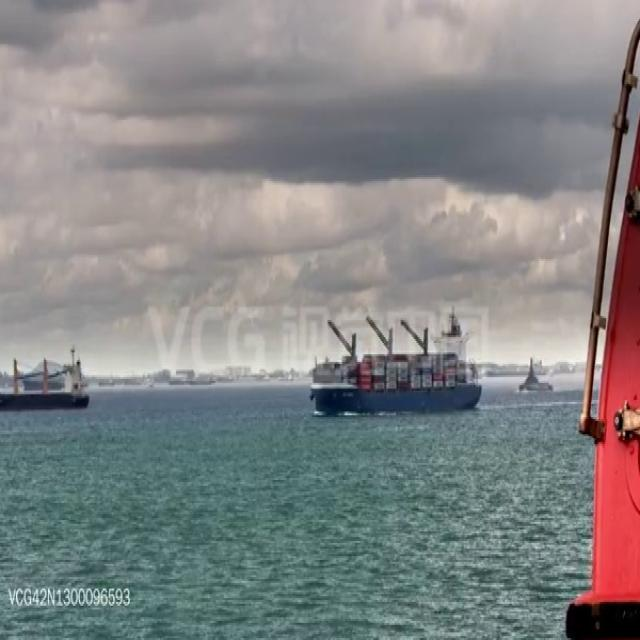cargoship: (303, 313, 484, 413), (0, 343, 89, 409), (521, 358, 554, 390)
